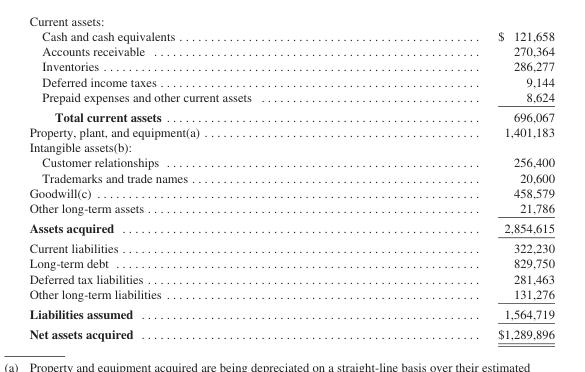table: (28, 28, 553, 340)
table column: (28, 28, 374, 340), (374, 28, 553, 340)
table projected row header: (28, 139, 553, 154)
table row: (28, 217, 553, 237), (28, 303, 553, 323), (28, 88, 553, 106), (28, 106, 553, 124), (28, 199, 553, 217), (28, 237, 553, 255), (28, 285, 553, 303), (28, 323, 553, 340), (28, 28, 553, 43), (28, 43, 553, 58), (28, 58, 553, 73), (28, 73, 553, 88), (28, 124, 553, 139), (28, 139, 553, 154), (28, 154, 553, 169), (28, 169, 553, 184), (28, 184, 553, 199), (28, 255, 553, 270), (28, 270, 553, 285)
